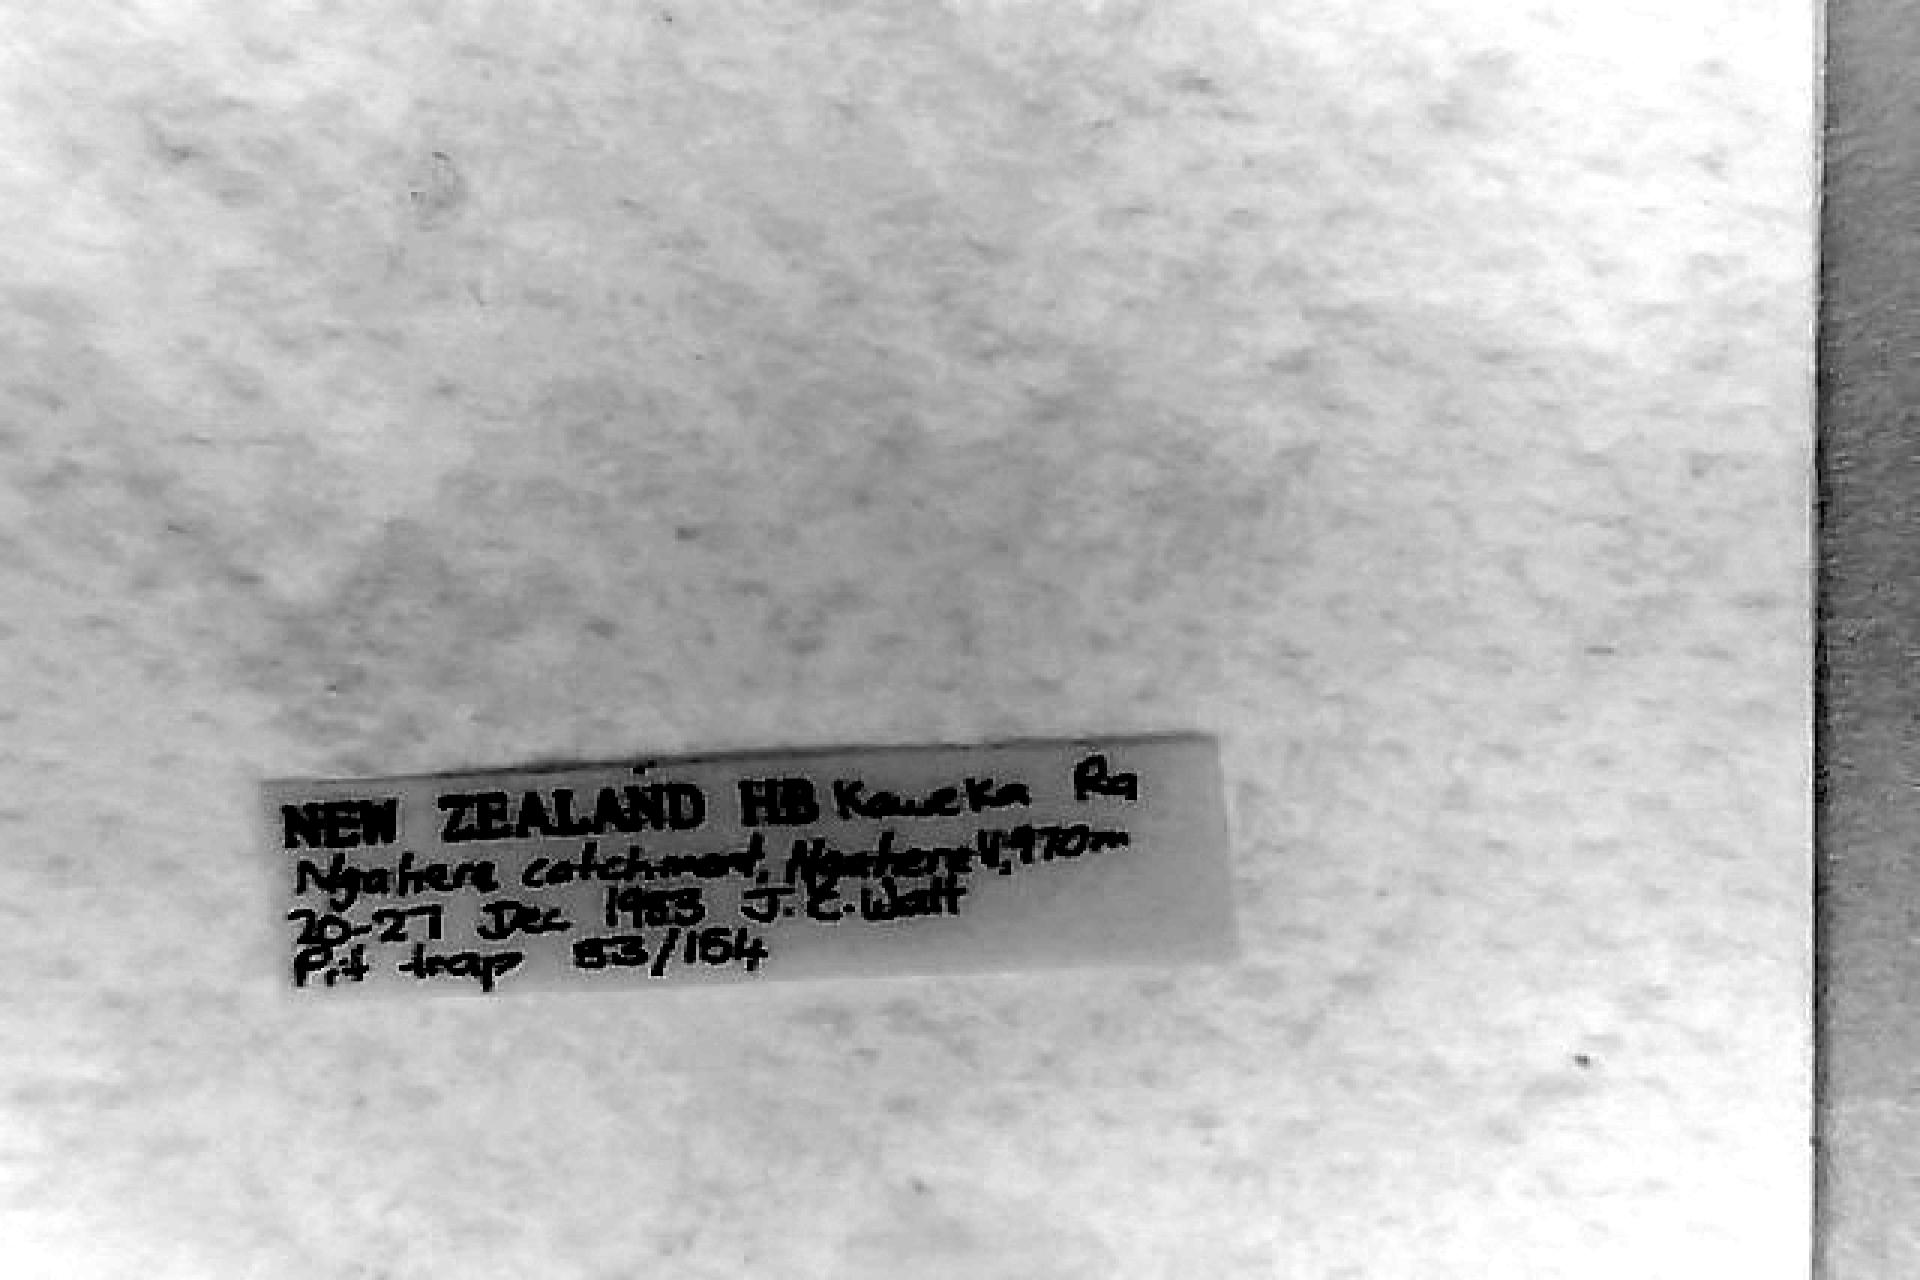mixed_label: (270, 737, 1234, 991)
